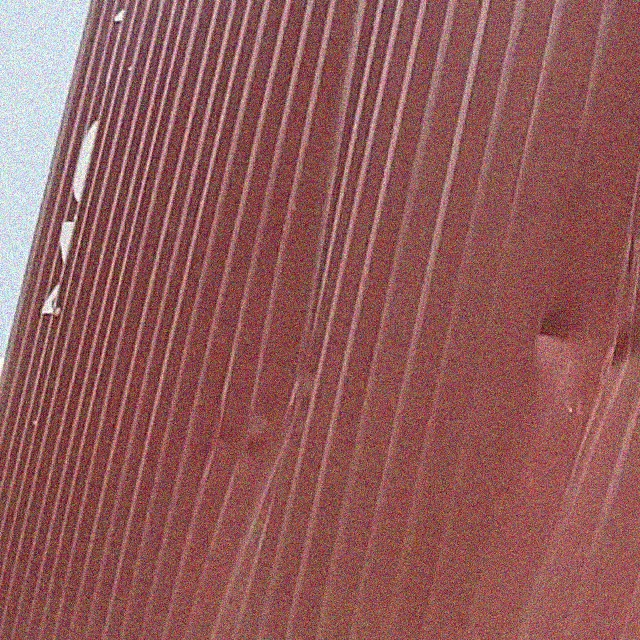Dent: (220, 168, 366, 538)
